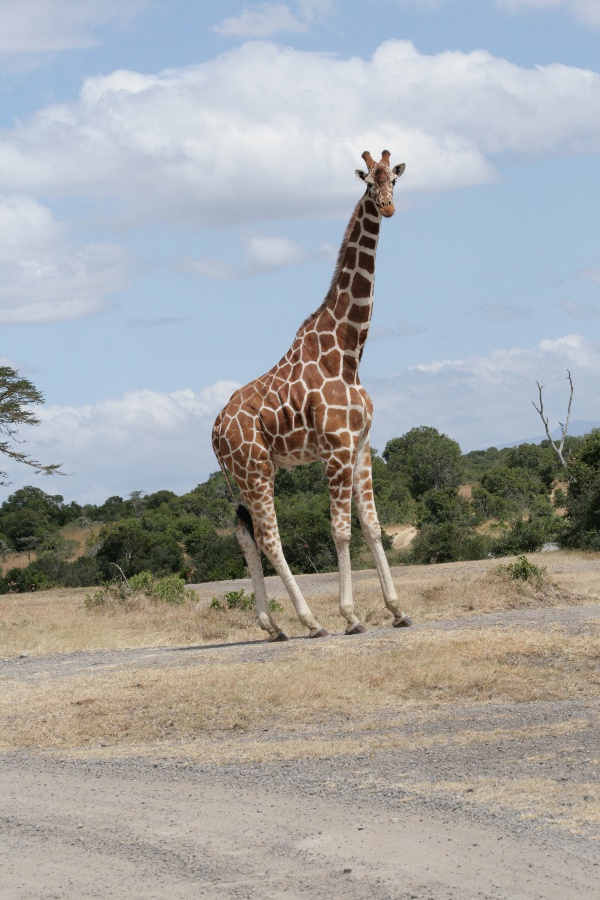giraffe: (203, 141, 411, 652)
